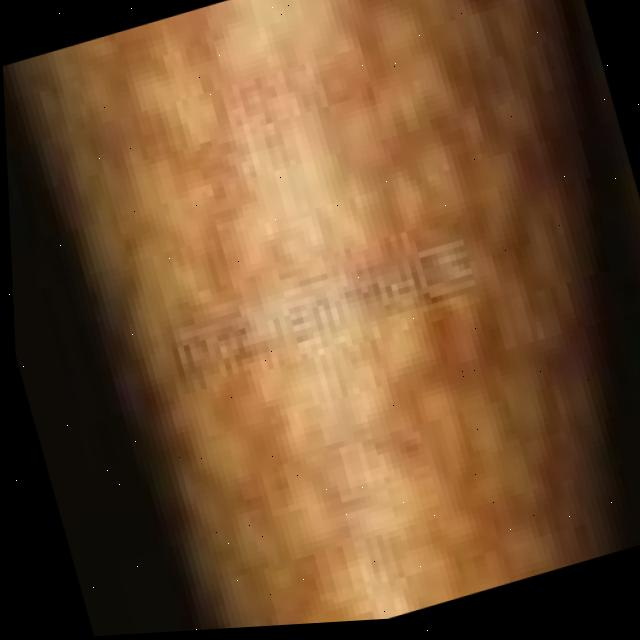Melasma: (10, 0, 640, 639)
